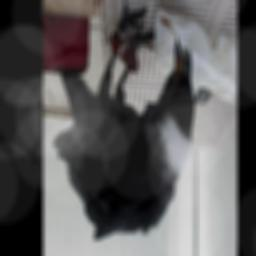Crow: (52, 0, 198, 242)
